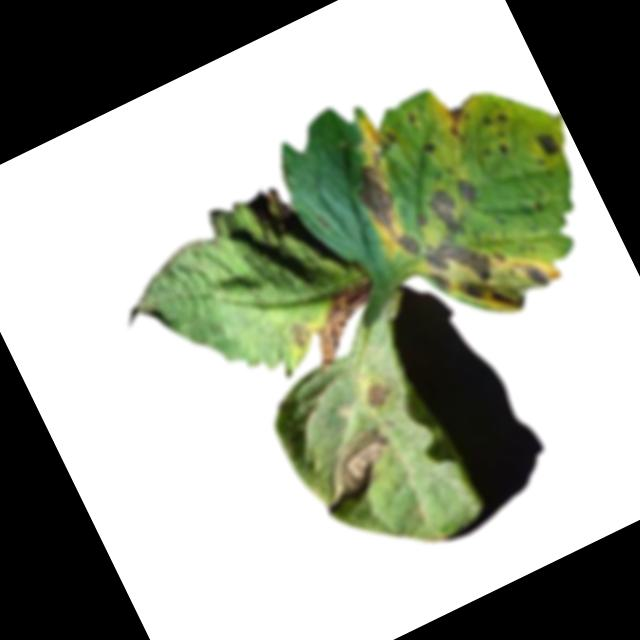Early_blight: (416, 197, 568, 341), (293, 277, 397, 375), (307, 419, 413, 515), (345, 157, 412, 241), (425, 184, 472, 241), (440, 99, 476, 144), (534, 127, 567, 162), (393, 227, 425, 261), (364, 380, 396, 411), (478, 107, 508, 134), (455, 176, 480, 205), (495, 139, 512, 157), (422, 140, 439, 158), (414, 213, 430, 229), (382, 128, 397, 145)
